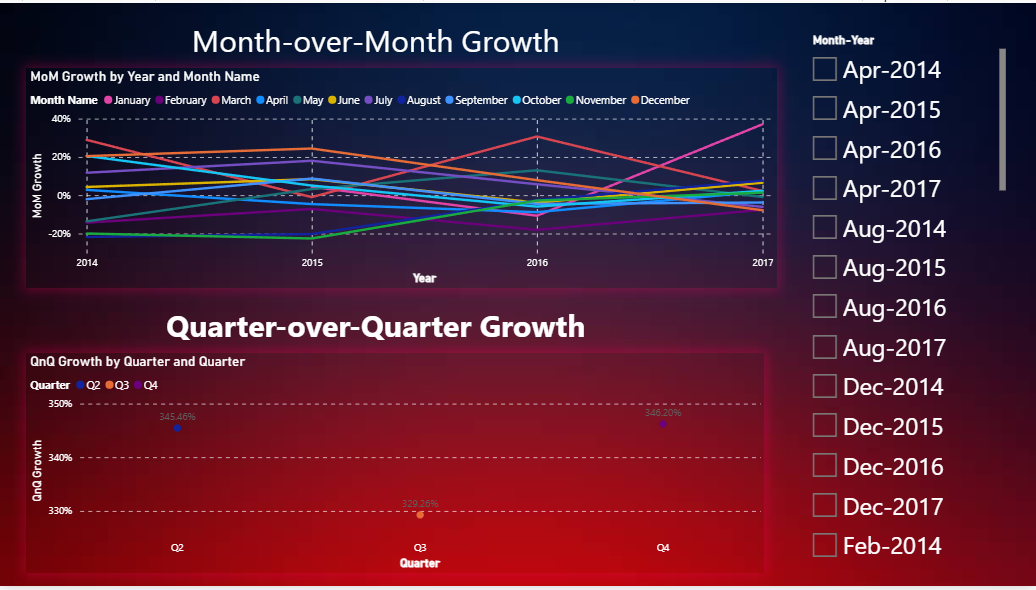

What the dashboard file says about the page in this screenshot:
{"tool":"powerbi","page":{"name":"MoM and QoQ Growth","canvas":[1280,720],"ordinal":3},"visuals":[{"type":"slicer","fields":{"Values":["CalenderMaster.Month-Year"]},"box":[992,32,256,672],"z":1000},{"type":"textbox","box":[32,16,864,64],"z":2000},{"type":"textbox","box":[32,368,864,64],"z":3000},{"type":"lineChart","fields":{"Category":["CalenderMaster.Quarter"],"Y":["FactSales.QnQ Growth"],"Series":["CalenderMaster.Quarter"]},"box":[32,432,912,272],"z":4000},{"type":"lineChart","fields":{"Category":["CalenderMaster.Date.Variation.Date Hierarchy.Year"],"Y":["FactSales.MoM Growth"],"Series":["CalenderMaster.Month Name"]},"box":[32,80,928,272],"z":4001}]}

Visuals, with their boxes in screenshot pixels (x1, y1, x2, y2), scaled from the page's 1280x720 canvas onto the 1036x590 screenshot:
slicer - CalenderMaster.Month-Year: (803, 26, 1010, 577)
textbox: (26, 13, 725, 66)
textbox: (26, 302, 725, 354)
lineChart - CalenderMaster.Quarter x FactSales.QnQ Growth: (26, 354, 764, 577)
lineChart - CalenderMaster.Date.Variation.Date Hierarchy.Year x FactSales.MoM Growth: (26, 66, 777, 288)
